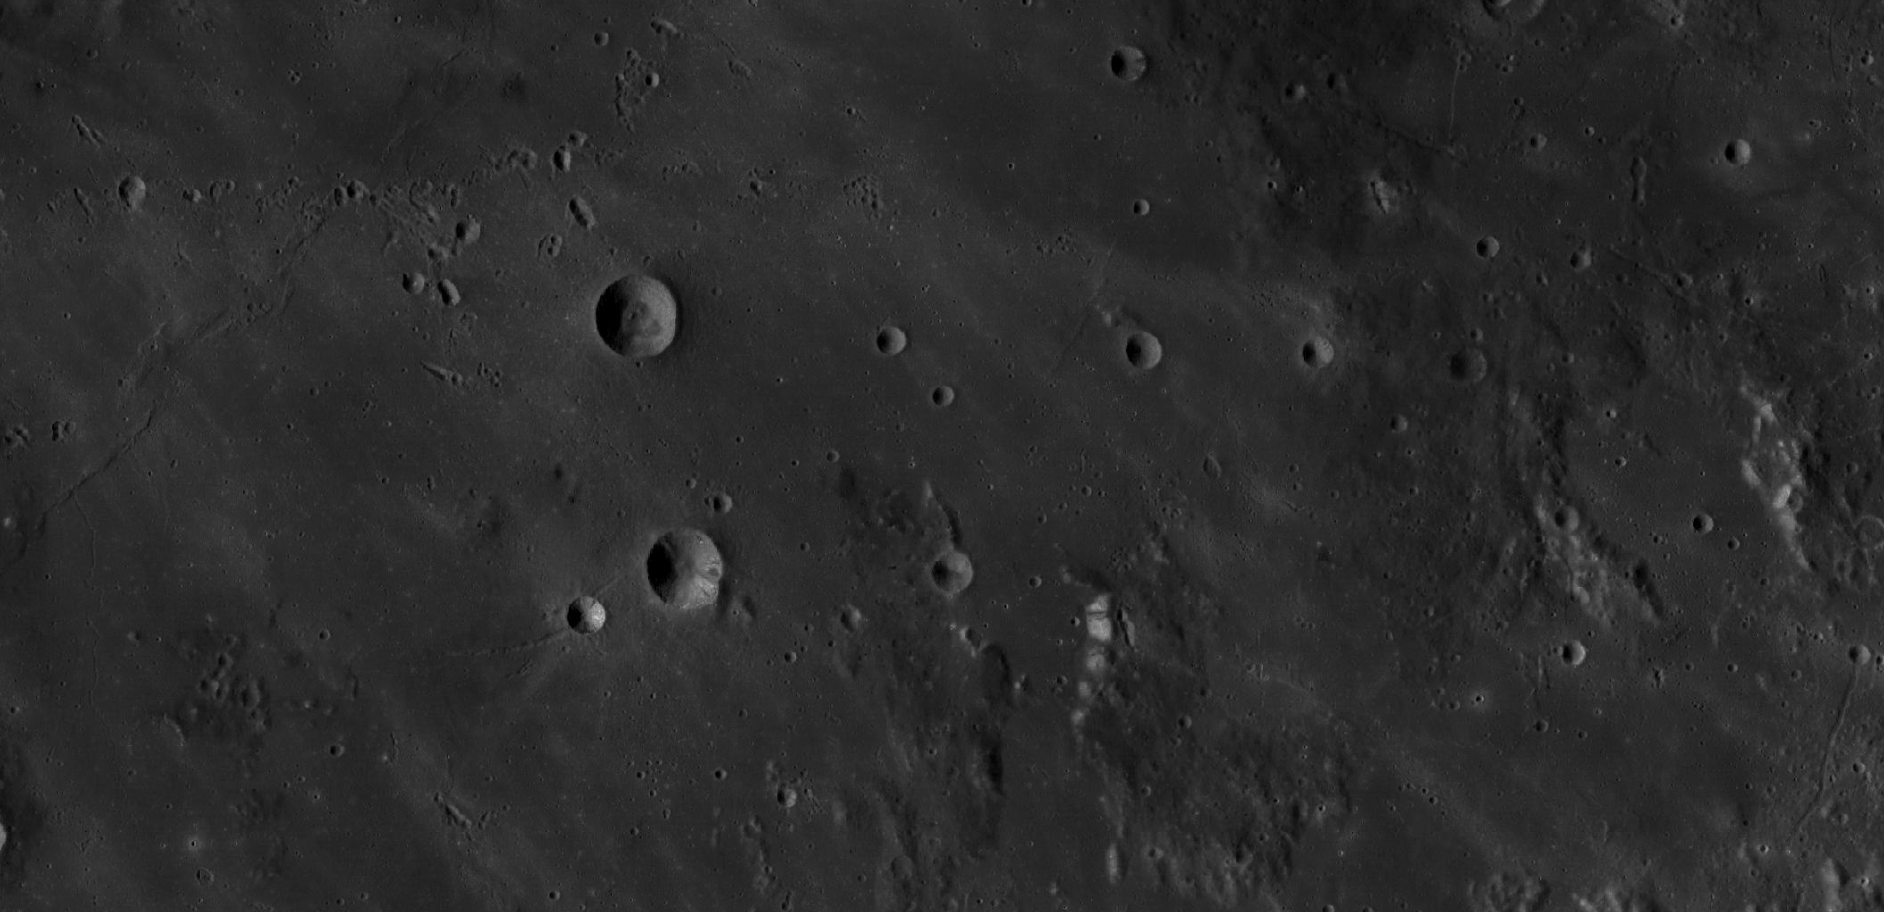crater: (576, 256, 720, 377), (634, 511, 737, 636), (1086, 306, 1198, 413), (1061, 17, 1176, 111), (1713, 115, 1777, 187), (1545, 624, 1608, 689), (857, 310, 925, 362), (1675, 491, 1721, 554)
